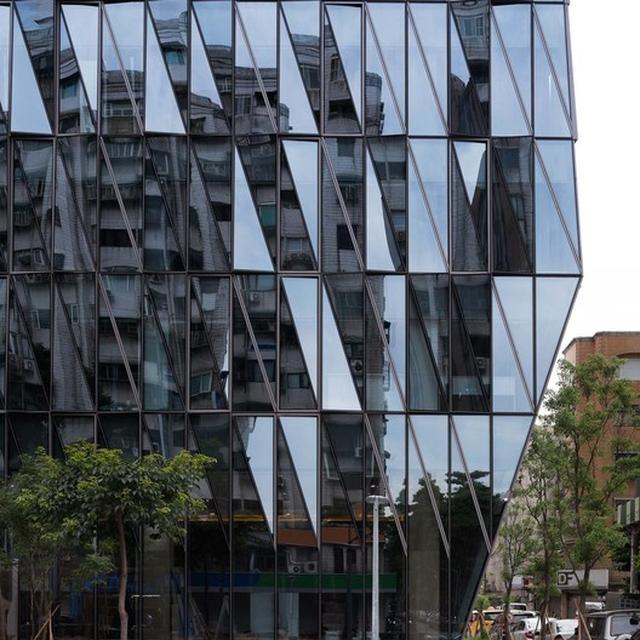building: (0, 1, 584, 640), (554, 319, 640, 621)
